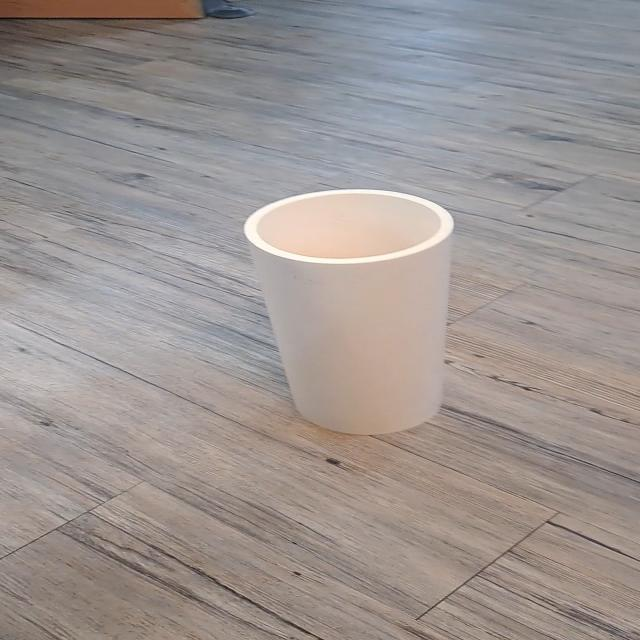CORAL: (226, 177, 490, 457)
